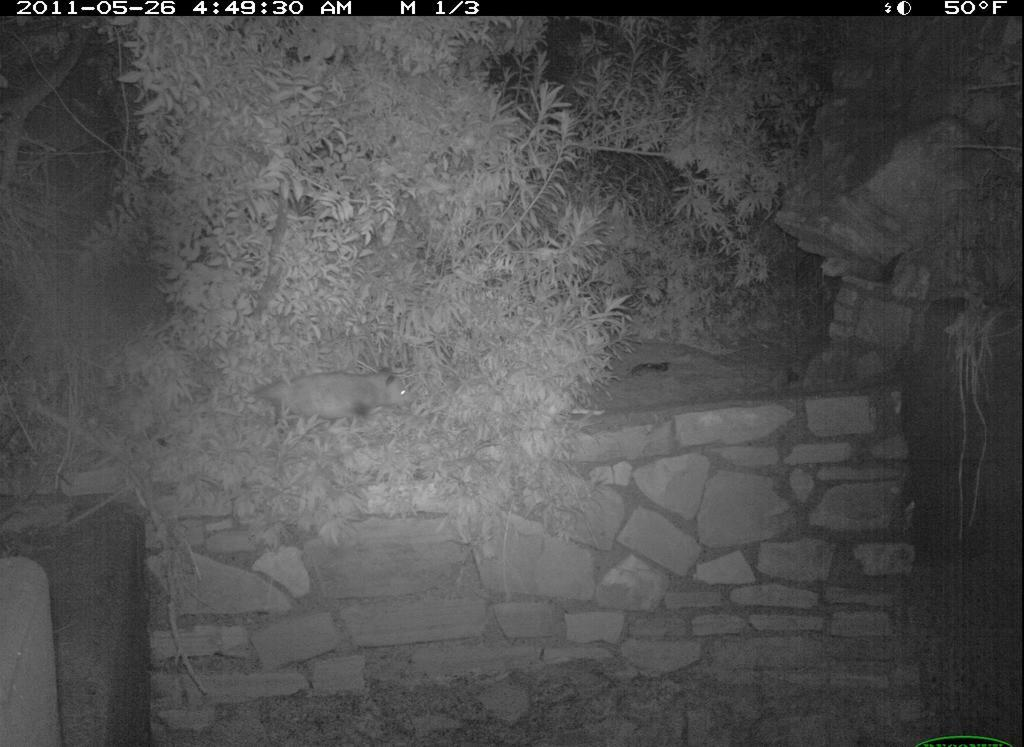opossum: (227, 363, 443, 438)
